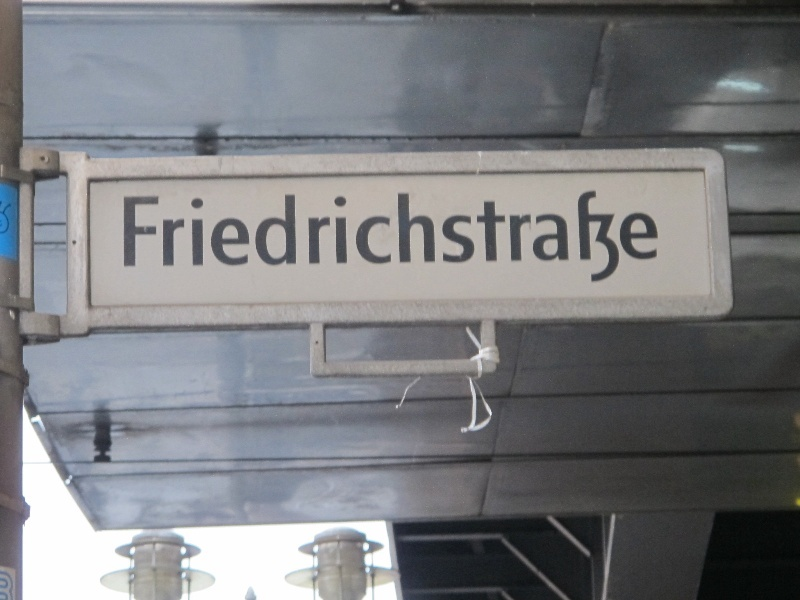text: (129, 189, 144, 297), (145, 189, 160, 297), (161, 189, 176, 297), (177, 189, 192, 297), (193, 189, 208, 297), (209, 189, 224, 297), (225, 189, 240, 297), (241, 189, 256, 297), (257, 189, 272, 297), (273, 189, 288, 297), (289, 189, 304, 297), (305, 189, 320, 297), (321, 189, 336, 297), (337, 189, 352, 297), (353, 189, 368, 297), (369, 189, 384, 297), (385, 189, 400, 297), (401, 189, 416, 297), (417, 189, 432, 297), (433, 189, 448, 297), (449, 189, 464, 297), (465, 189, 480, 297), (481, 189, 496, 297), (497, 189, 512, 297), (513, 189, 528, 297), (529, 189, 544, 297), (545, 189, 560, 297), (561, 189, 576, 297), (577, 189, 592, 297), (593, 189, 608, 297), (609, 189, 624, 297), (625, 189, 640, 297), (641, 189, 656, 297), (1, 199, 16, 234), (124, 189, 128, 297), (657, 189, 658, 297)
